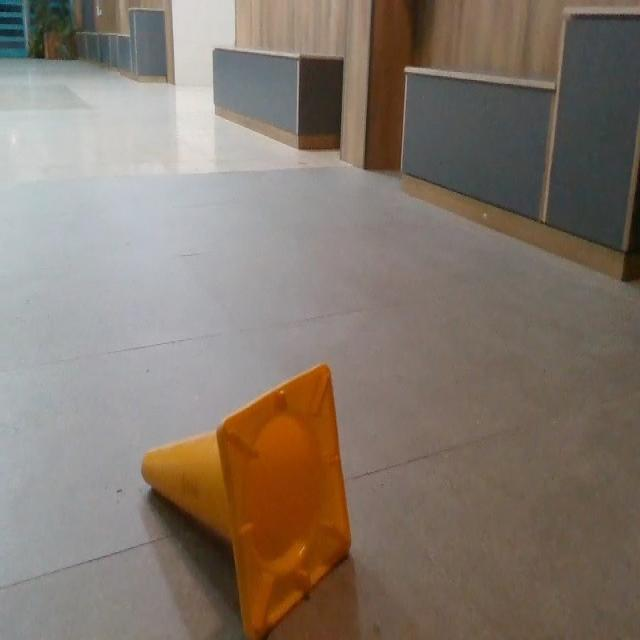cone: (143, 358, 351, 636)
